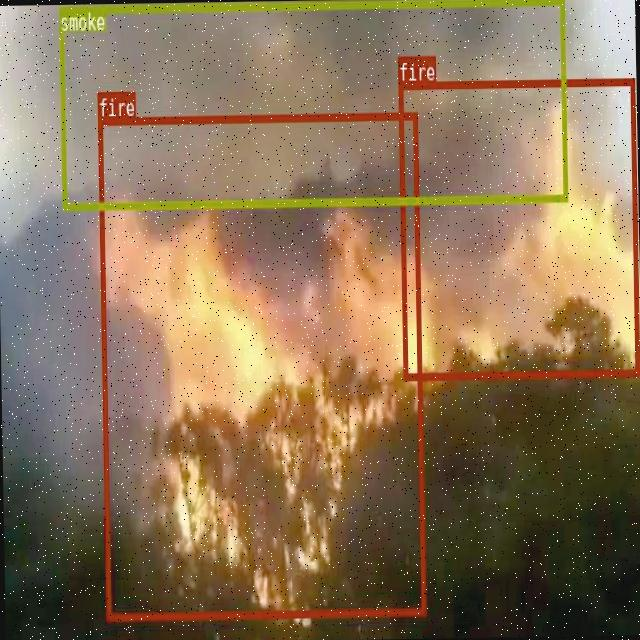fire: (97, 111, 425, 620), (398, 76, 638, 378)
smoke: (57, 0, 566, 209)
